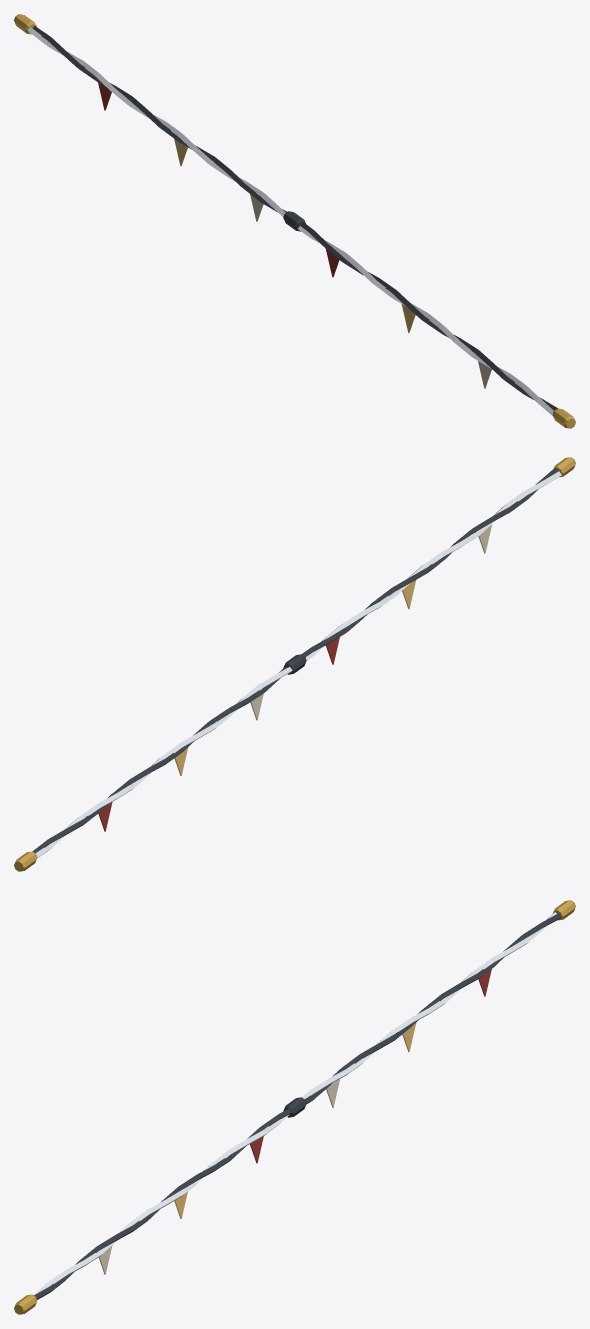
Rendered from ZipLine.obj.
3 views of the same model, one above another, from view 1: azimuth 30°, elevation 25°; view 2: azimuth 150°, elevation 25°; view 3: azimuth 330°, elevation 25° (orthographic).
Bounding box in the file's own units: 0.2 × 0.55 × 16.
